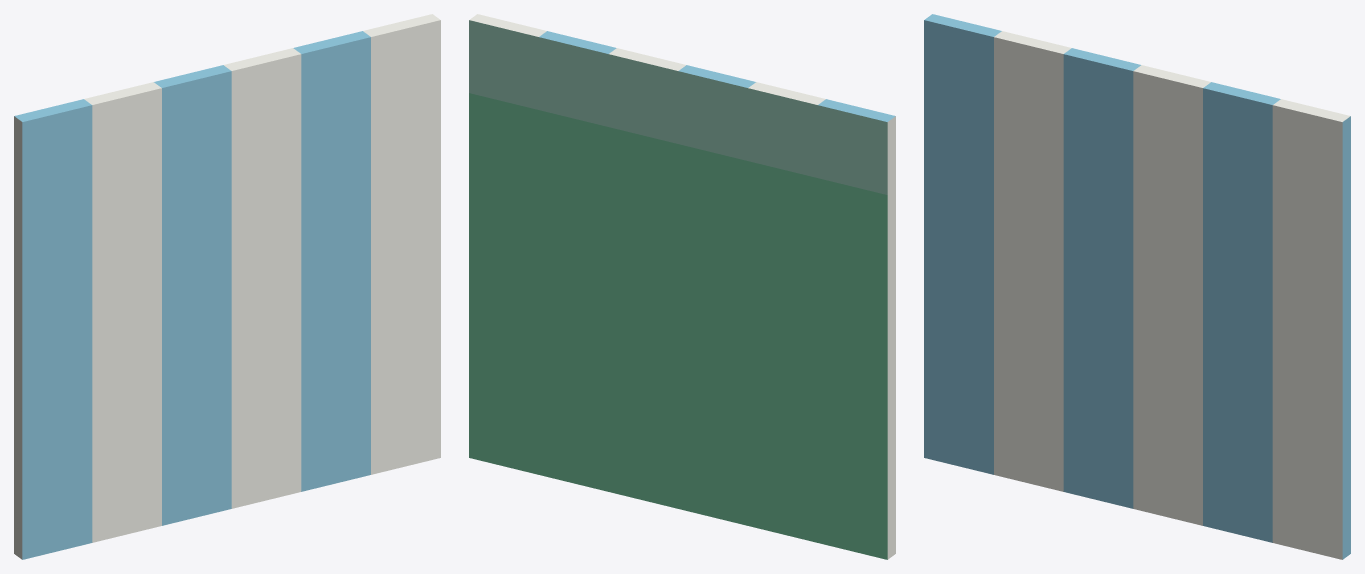
The model's file is Bedroom2LivingWall.fbx.
The picture shows the model from 3 angles, left to right: view 1: azimuth 30°, elevation 25°; view 2: azimuth 150°, elevation 25°; view 3: azimuth 330°, elevation 25°; orthographic projection.
Parts seen in each view (by area): view 1: Cube; view 2: Cube; view 3: Cube.
Part boxes in pixels (x1,y1,x2,y2): Cube: (14, 14, 440, 559); Cube: (469, 14, 895, 559); Cube: (924, 14, 1350, 559).
Size of the model in its own units: 2900 by 100 by 2900.
Materials: 1 (1 with a texture image).
